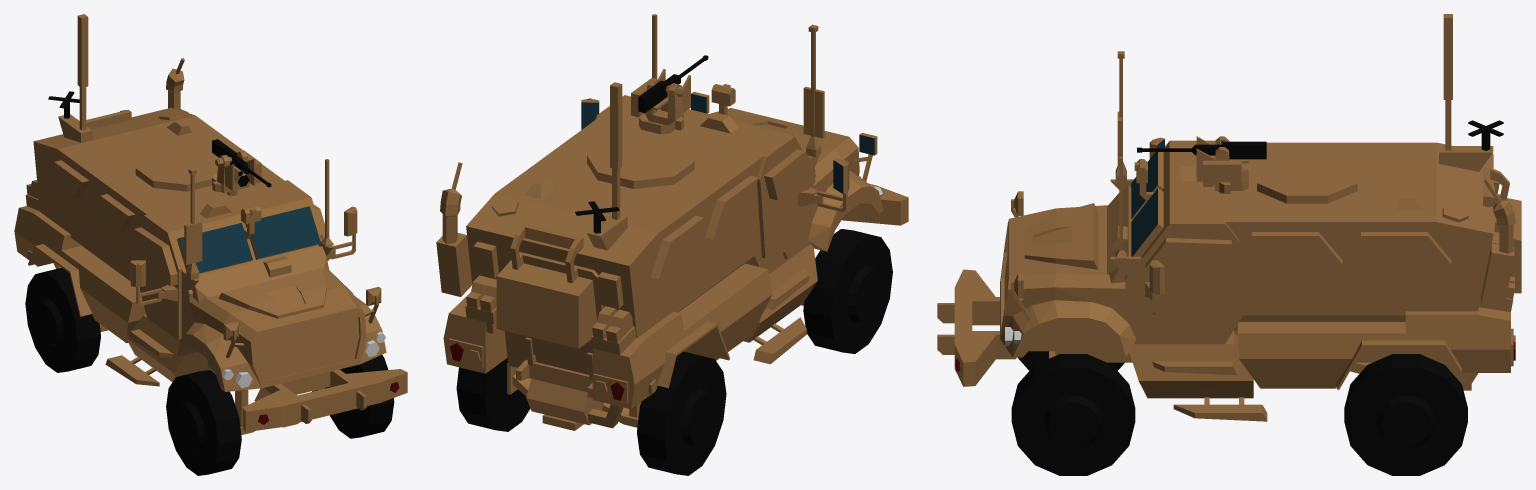
File: MaxxPro Dash_NATO-Desert.fbx
3 renders of one model, left to right at view 1: azimuth 30°, elevation 25°; view 2: azimuth 150°, elevation 25°; view 3: azimuth 270°, elevation 25°, orthographic. The views are drawn at different scales.
Parts seen in each view (by area): view 1: MaxxPro_Body, MaxxPro_Wheel-Forward_R, MaxxPro_Wheel-Back_R, MaxxPro_Body_Glass-Parts, MaxxPro_Wheel-Forward_L, MaxxPro_Turret, MaxxPro_Body_Headlamps, MaxxPro_Turret_Gun; view 2: MaxxPro_Body, MaxxPro_Wheel-Forward_R, MaxxPro_Wheel-Back_R, MaxxPro_Wheel-Back_L, MaxxPro_Turret, MaxxPro_Body_Glass-Parts, MaxxPro_Turret_Gun; view 3: MaxxPro_Body, MaxxPro_Wheel-Forward_L, MaxxPro_Wheel-Back_L, MaxxPro_Turret, MaxxPro_Body_Glass-Parts, MaxxPro_Turret_Gun.
Part boxes in pixels (x1=…): MaxxPro_Body: x1=14, y1=14, x2=407, y2=434; MaxxPro_Wheel-Forward_R: x1=166, y1=370, x2=241, y2=475; MaxxPro_Wheel-Back_R: x1=25, y1=268, x2=100, y2=372; MaxxPro_Body_Glass-Parts: x1=179, y1=206, x2=320, y2=272; MaxxPro_Wheel-Forward_L: x1=325, y1=355, x2=394, y2=438; MaxxPro_Turret: x1=212, y1=150, x2=261, y2=195; MaxxPro_Body_Headlamps: x1=222, y1=331, x2=385, y2=388; MaxxPro_Turret_Gun: x1=212, y1=139, x2=271, y2=187; MaxxPro_Body: x1=436, y1=14, x2=908, y2=430; MaxxPro_Wheel-Forward_R: x1=803, y1=229, x2=892, y2=353; MaxxPro_Wheel-Back_R: x1=637, y1=351, x2=726, y2=475; MaxxPro_Wheel-Back_L: x1=456, y1=358, x2=530, y2=431; MaxxPro_Turret: x1=631, y1=69, x2=690, y2=134; MaxxPro_Body_Glass-Parts: x1=581, y1=93, x2=874, y2=193; MaxxPro_Turret_Gun: x1=638, y1=55, x2=708, y2=112; MaxxPro_Body: x1=937, y1=14, x2=1521, y2=421; MaxxPro_Wheel-Forward_L: x1=1011, y1=354, x2=1135, y2=475; MaxxPro_Wheel-Back_L: x1=1344, y1=354, x2=1467, y2=475; MaxxPro_Turret: x1=1196, y1=136, x2=1248, y2=193; MaxxPro_Body_Glass-Parts: x1=1131, y1=139, x2=1164, y2=256; MaxxPro_Turret_Gun: x1=1137, y1=141, x2=1266, y2=159.
Size of the model in its own units: 335 by 466 by 638.
